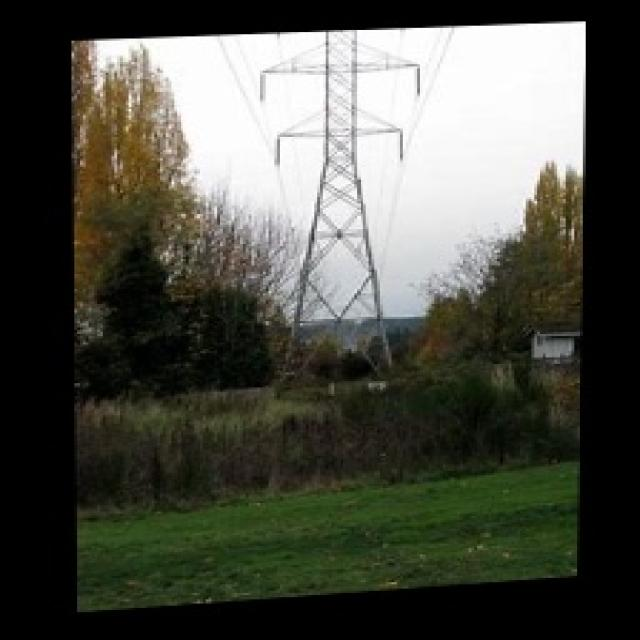utility poles: (238, 262, 342, 398), (362, 294, 505, 386)
